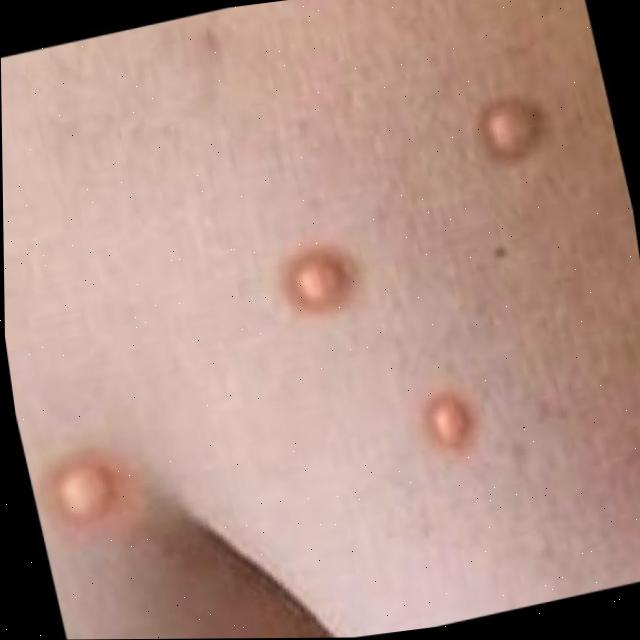Eczema: (474, 108, 542, 158), (280, 253, 344, 303), (429, 386, 475, 448), (53, 476, 100, 505)
